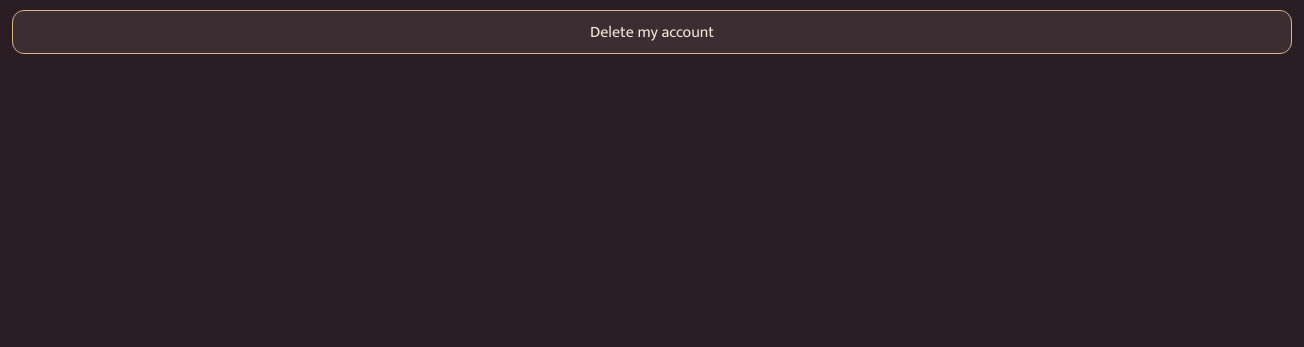
Test case: cancelling closes the confirm without deleting
Click the button "Delete my account" at (652, 32), box [12,10,1292,54]
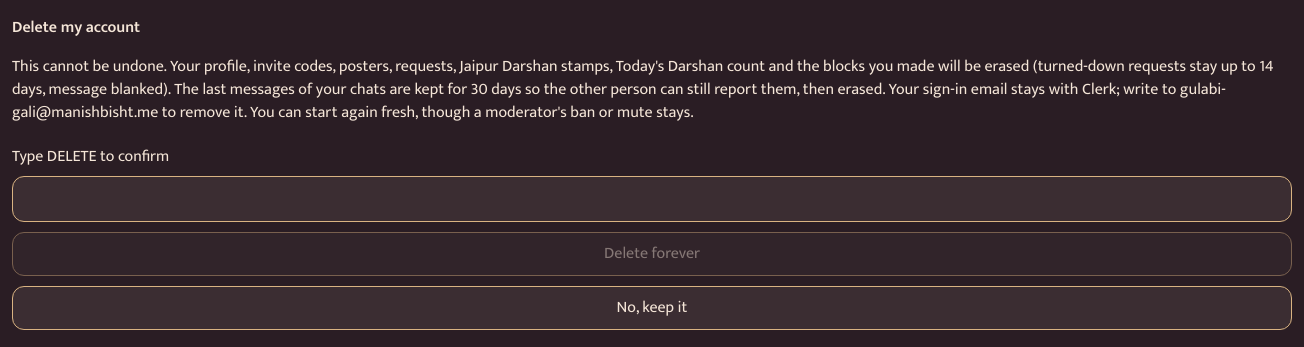
Click the button "No, keep it" at (652, 308), box [12,286,1292,330]
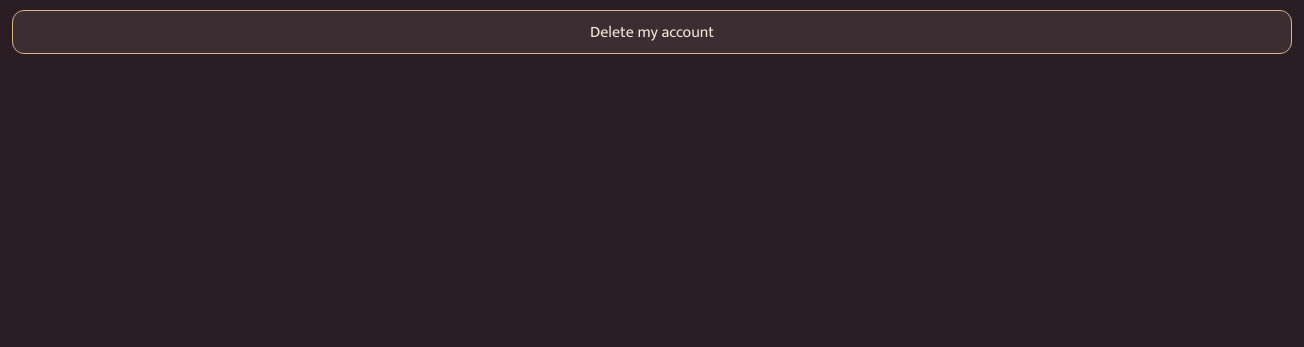
Expected: the field is gone
